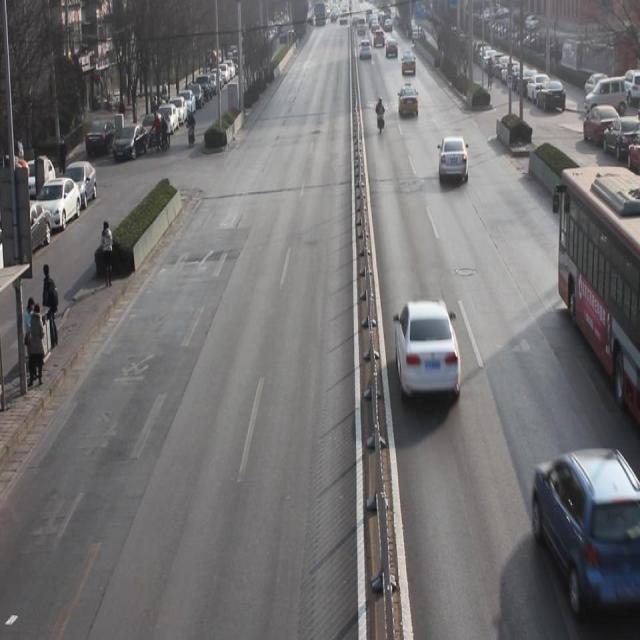car: (535, 444, 640, 611), (394, 298, 464, 408), (438, 132, 470, 188), (399, 84, 419, 120), (401, 49, 416, 77), (359, 39, 373, 64), (385, 40, 400, 60)
van: (556, 165, 640, 419)
